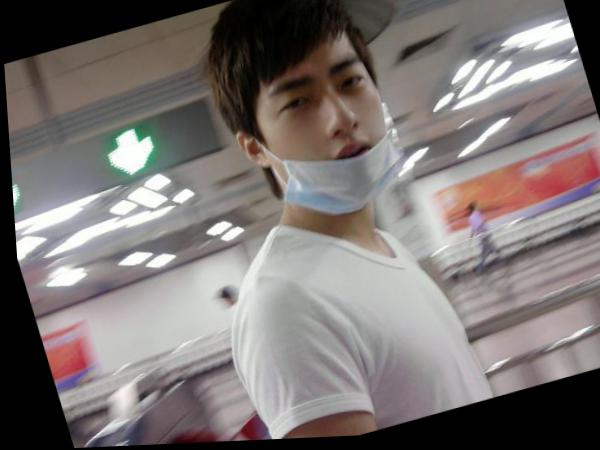WRONG: (238, 50, 414, 223)
